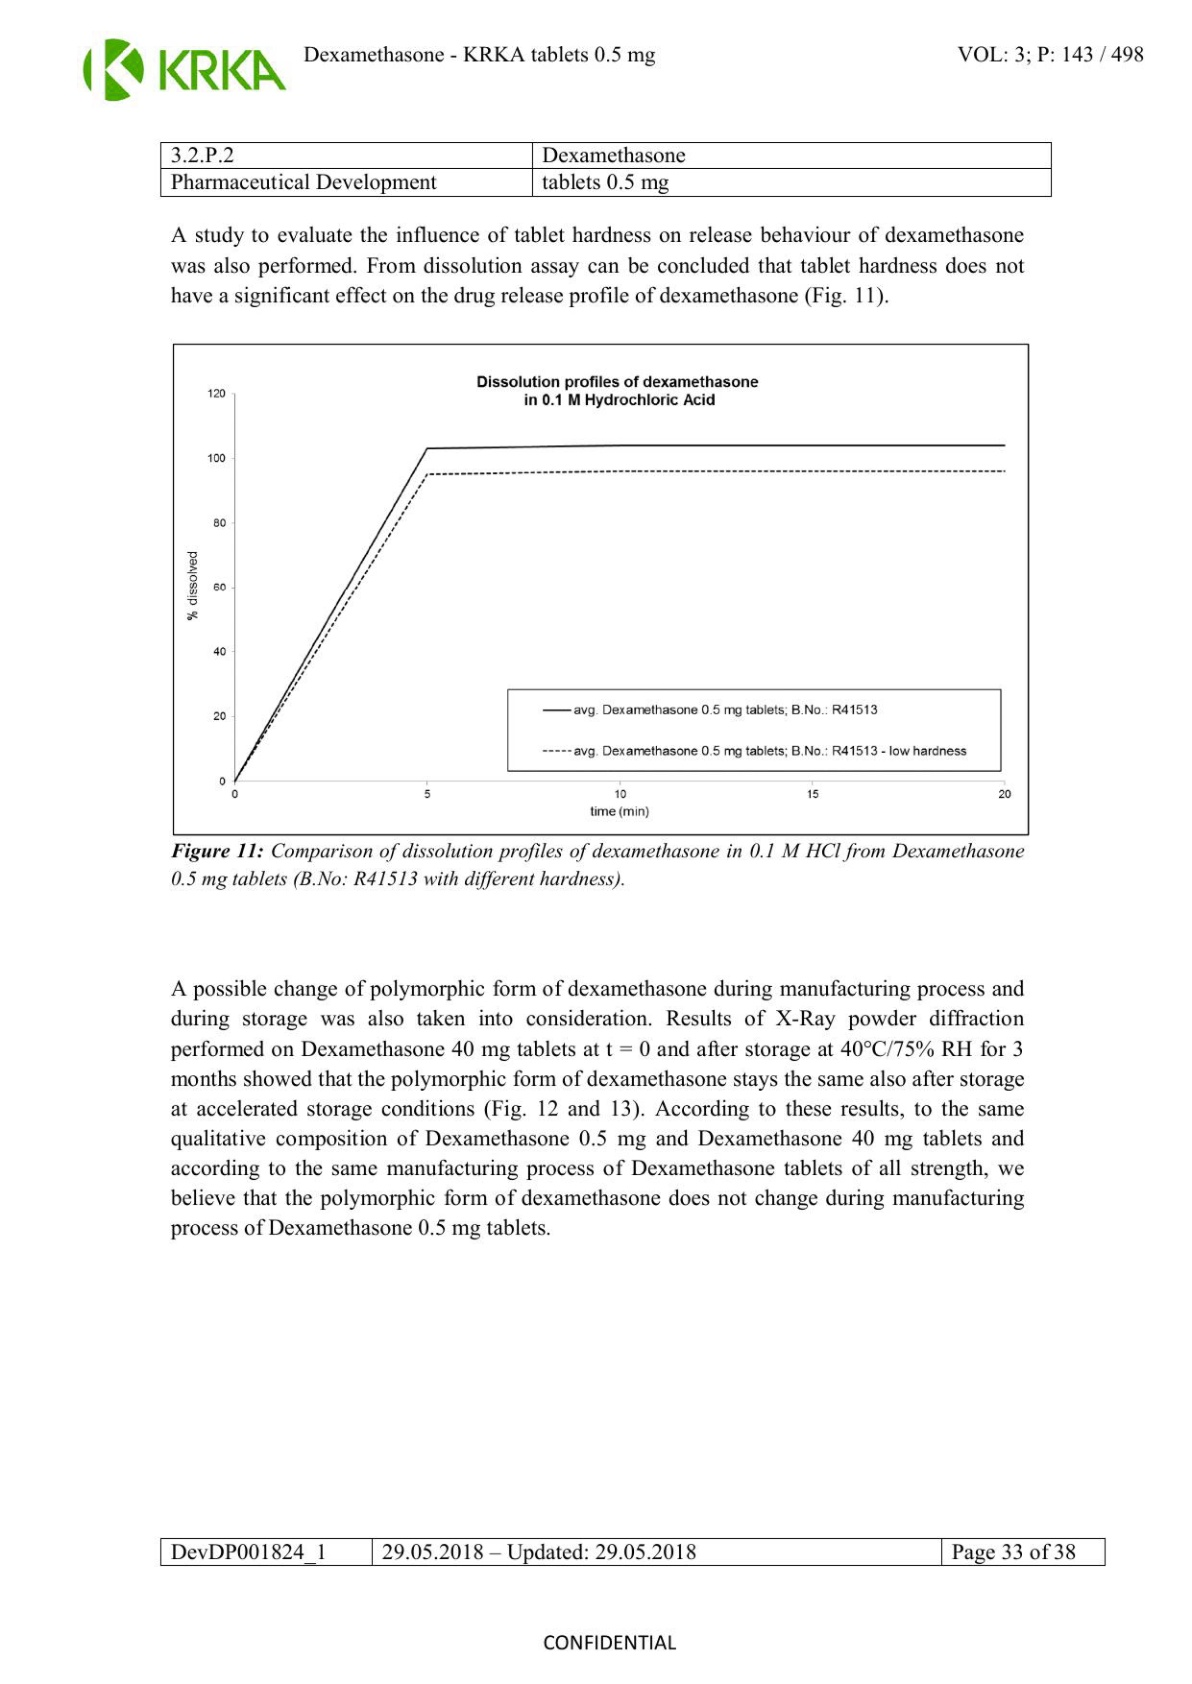full_lined: (160, 142, 1051, 197), (160, 1537, 1106, 1567)
